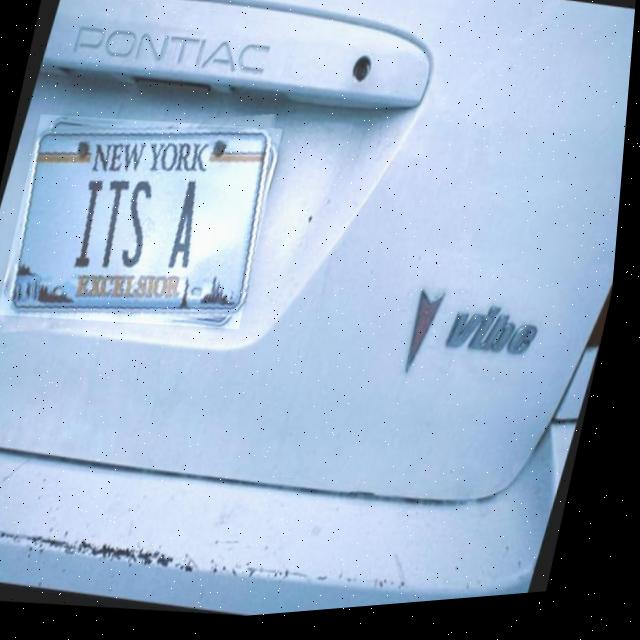LicensePlate: (9, 130, 277, 322)
